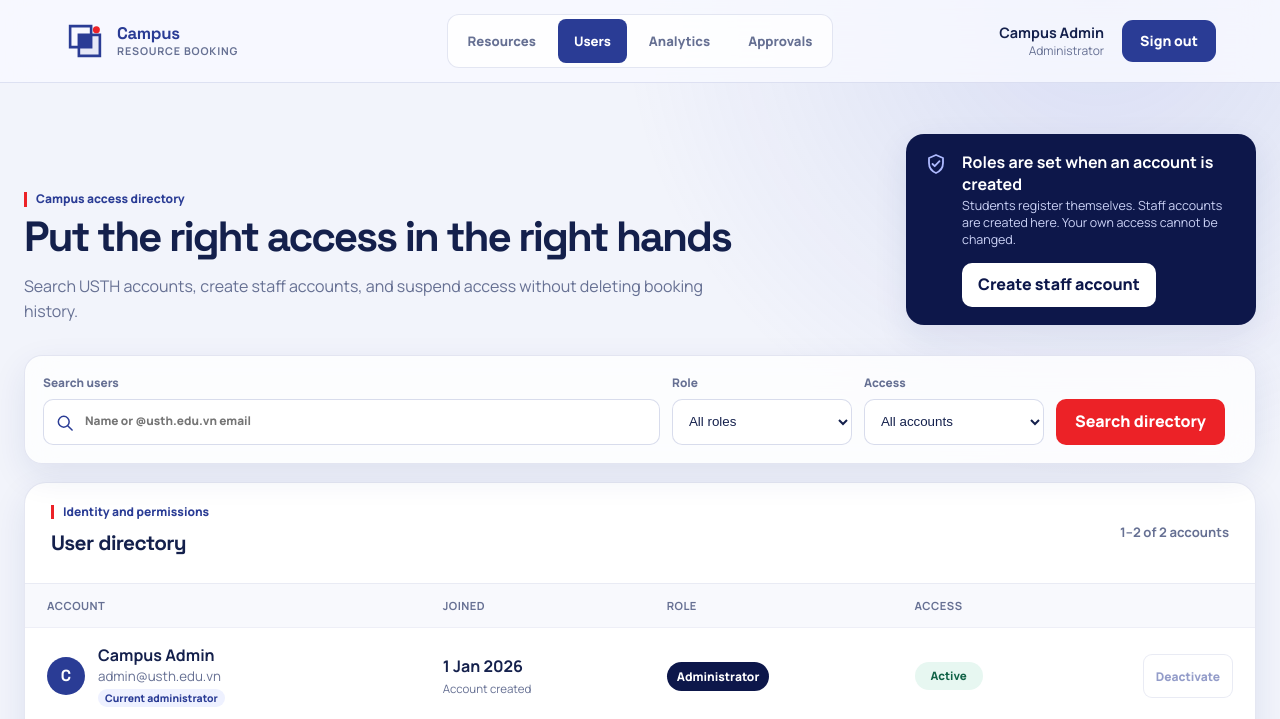
AdminUserManager › returns focus to the toggle when the staff form is cancelled
This screenshot has width=1280, height=719.
Click the button "Create staff account" at (1059, 285), box x1=962 y1=263 x2=1156 y2=307
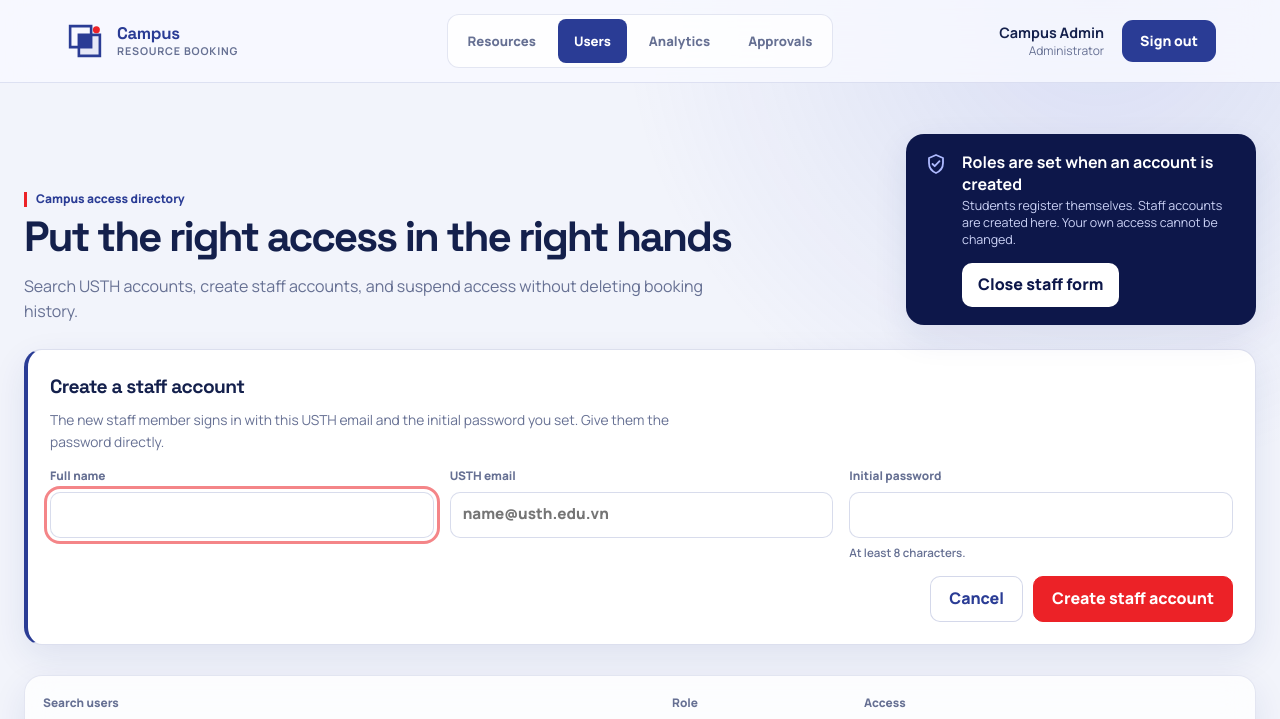
Click the button "Cancel" at (977, 599), box x1=930 y1=576 x2=1023 y2=622
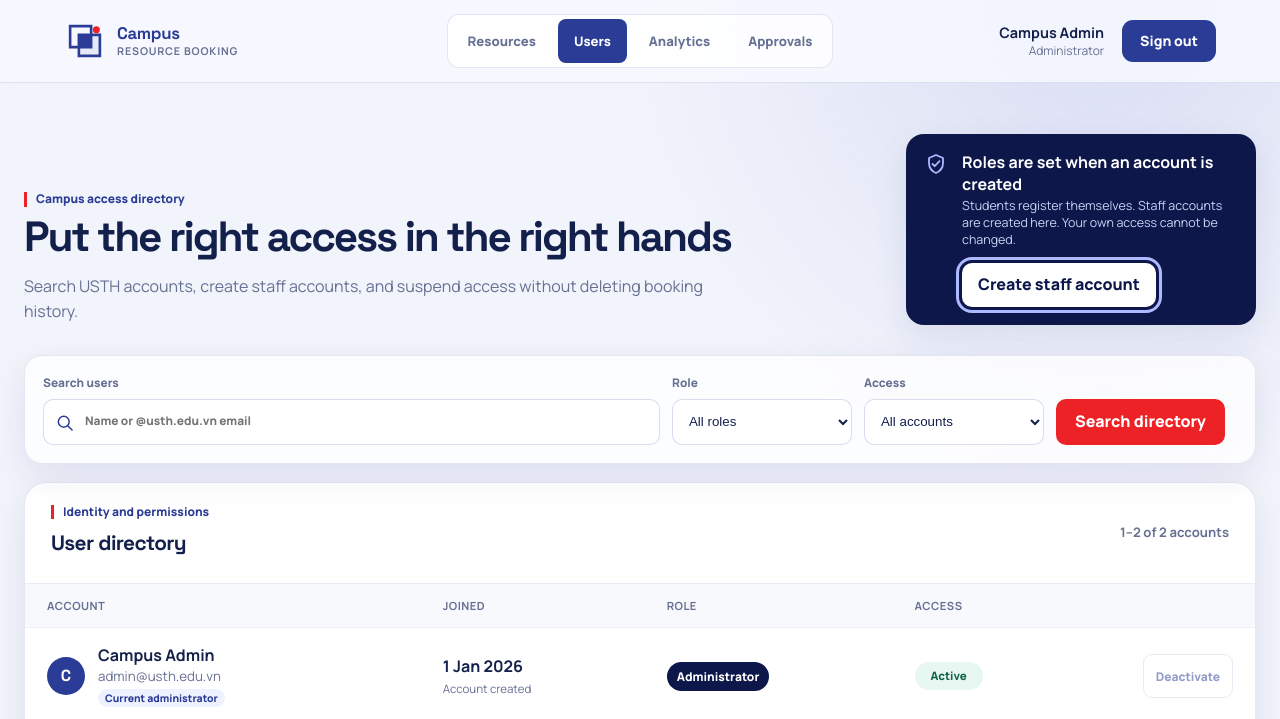
Check: the heading "Create a staff account" is gone
